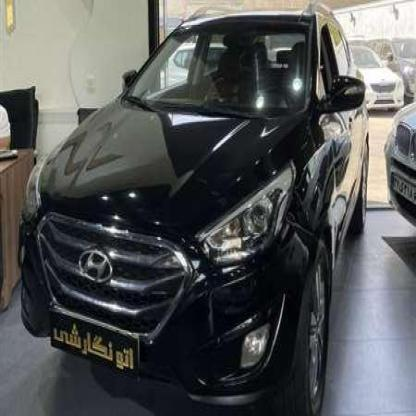Car: (12, 0, 372, 416), (347, 40, 401, 117), (382, 99, 416, 219)
